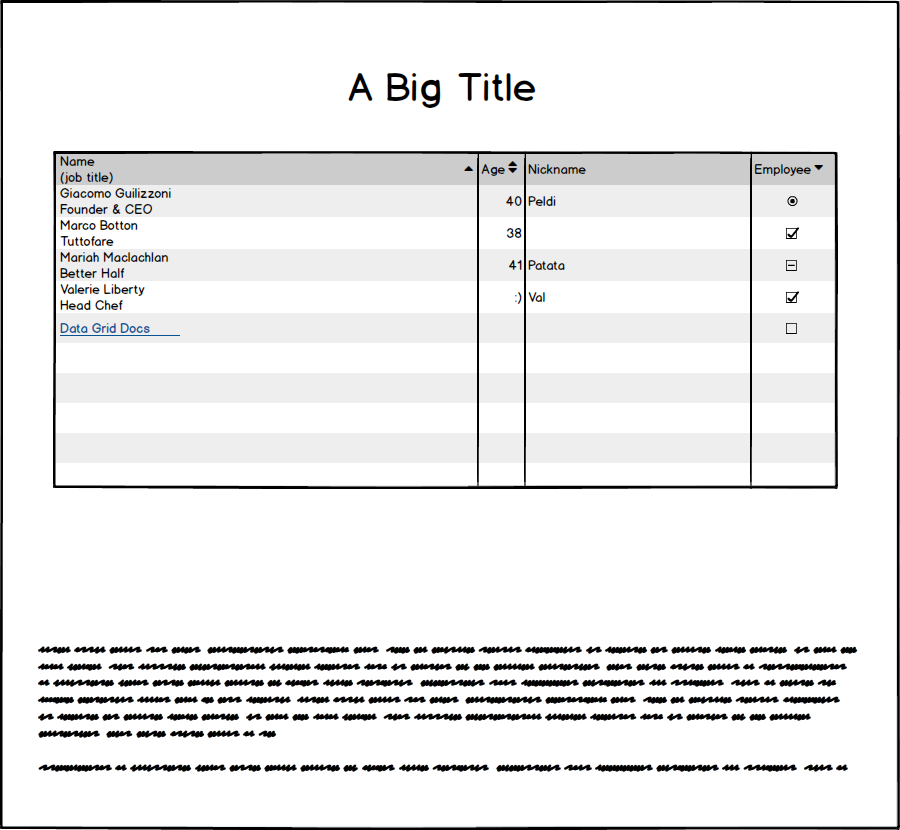h1: (339, 58, 540, 114)
p: (22, 634, 865, 782)
table: (46, 144, 846, 495)
